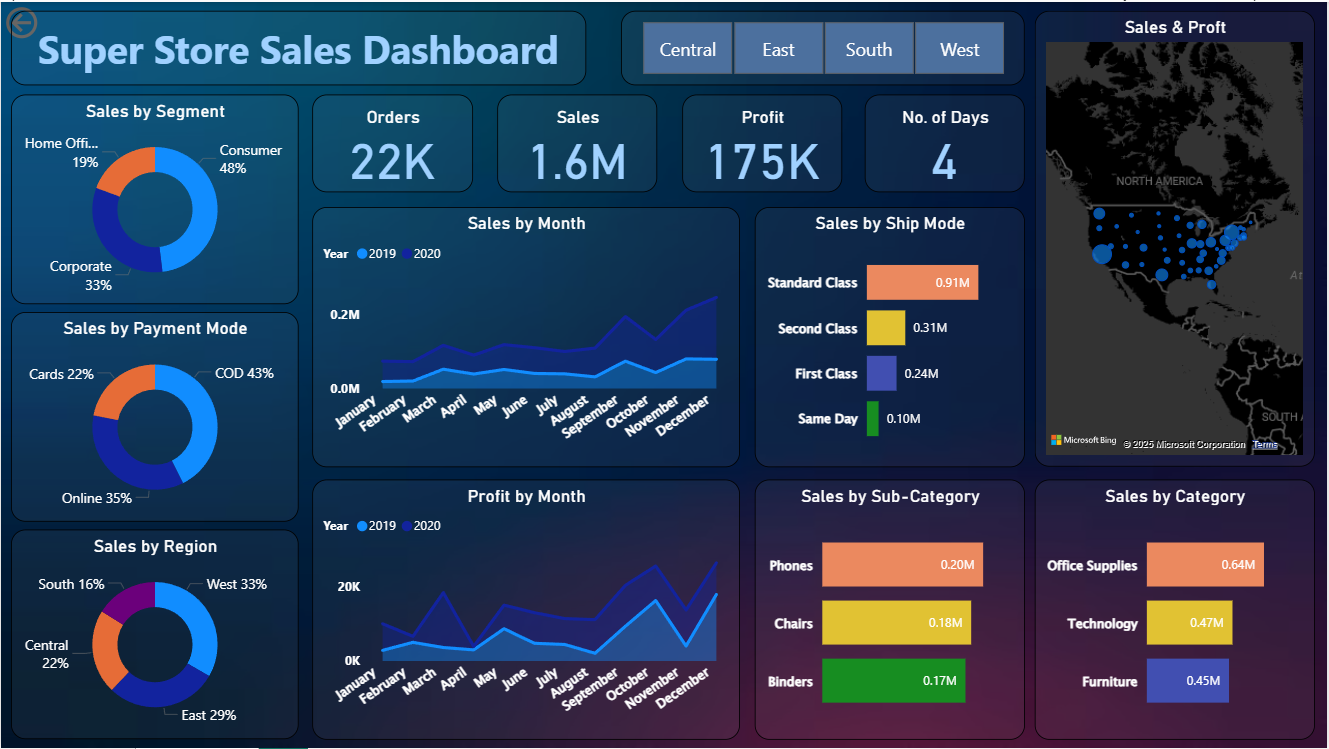

The dashboard page shown, as its layout file describes it:
{"tool":"powerbi","page":{"name":"dashboard","canvas":[1280,720],"ordinal":0},"visuals":[{"type":"clusteredBarChart","title":"Sales by Category","fields":{"Category":["SuperStore_Sales_Dataset.Category"],"Y":["Sum(SuperStore_Sales_Dataset.Sales)"]},"box":[997.7,460.9,270,250.9],"z":0},{"type":"clusteredBarChart","title":"Sales by Sub-Category","fields":{"Category":["SuperStore_Sales_Dataset.Sub-Category"],"Y":["Sum(SuperStore_Sales_Dataset.Sales)"]},"box":[727.5,460.9,260.6,250.9],"z":1000},{"type":"clusteredBarChart","title":"Sales by Ship Mode","fields":{"Category":["SuperStore_Sales_Dataset.Ship Mode"],"Y":["Sum(SuperStore_Sales_Dataset.Sales)"]},"box":[727.5,197.9,260.6,250.9],"z":2000},{"type":"stackedAreaChart","title":"Sales by Month","fields":{"Y":["Sum(SuperStore_Sales_Dataset.Sales)"],"Category":["SuperStore_Sales_Dataset.Order Date.Variation.Date Hierarchy.Month","SuperStore_Sales_Dataset.Order Date.Variation.Date Hierarchy.Day"],"Series":["SuperStore_Sales_Dataset.Order Date.Variation.Date Hierarchy.Year"]},"box":[300,197.9,412.6,250.9],"z":3000},{"type":"stackedAreaChart","title":"Profit by Month","fields":{"Category":["SuperStore_Sales_Dataset.Order Date.Variation.Date Hierarchy.Month","SuperStore_Sales_Dataset.Order Date.Variation.Date Hierarchy.Day"],"Series":["SuperStore_Sales_Dataset.Order Date.Variation.Date Hierarchy.Year"],"Y":["Sum(SuperStore_Sales_Dataset.Profit)"]},"box":[300,460.9,412.6,250.9],"z":4000},{"type":"map","title":"Sales & Profit","fields":{"Category":["SuperStore_Sales_Dataset.State"],"Size":["Sum(SuperStore_Sales_Dataset.Sales)"]},"box":[997.7,8.4,270.2,440.4],"z":5000},{"type":"actionButton","box":[0,0,100,40],"z":6000},{"type":"donutChart","title":"Sales by Segment","fields":{"Category":["SuperStore_Sales_Dataset.Segment"],"Y":["Sum(SuperStore_Sales_Dataset.Sales)"]},"box":[9.7,89.3,277.5,202.7],"z":7000},{"type":"donutChart","title":"Sales by Payment Mode","fields":{"Category":["SuperStore_Sales_Dataset.Payment Mode"],"Y":["Sum(SuperStore_Sales_Dataset.Sales)"]},"box":[9.7,299.2,277.5,202.7],"z":8000},{"type":"slicer","fields":{"Values":["SuperStore_Sales_Dataset.Region"]},"box":[598.4,8.4,389.7,72.4],"z":9000},{"type":"textbox","box":[9.7,8.4,555,72.4],"z":10000},{"type":"card","title":"Sales","fields":{"Values":["Sum(SuperStore_Sales_Dataset.Sales)"]},"box":[479,89,154.4,94.1],"z":11000},{"type":"card","title":"Orders","fields":{"Values":["Sum(SuperStore_Sales_Dataset.Quantity)"]},"box":[300,89.3,155,94.1],"z":12000},{"type":"card","title":"Profit","fields":{"Values":["Sum(SuperStore_Sales_Dataset.Profit)"]},"box":[657,89.3,154.4,94.1],"z":13000},{"type":"card","title":"No. of Days","fields":{"Values":["Avg(SuperStore_Sales_Dataset.Average Delivery)"]},"box":[833.7,89.3,154.4,94.1],"z":14000},{"type":"donutChart","title":"Sales by Region","fields":{"Category":["SuperStore_Sales_Dataset.Region"],"Y":["Sum(SuperStore_Sales_Dataset.Sales)"]},"box":[9.7,509.1,277.5,202.7],"z":14001}]}

Visuals, with their boxes in screenshot pixels (x1, y1, x2, y2), scaled from the page's 1280x720 canvas onto the 1329x749 screenshot:
"Sales by Category" clusteredBarChart: {"x1": 1036, "y1": 479, "x2": 1316, "y2": 740}
"Sales by Sub-Category" clusteredBarChart: {"x1": 755, "y1": 479, "x2": 1026, "y2": 740}
"Sales by Ship Mode" clusteredBarChart: {"x1": 755, "y1": 206, "x2": 1026, "y2": 467}
"Sales by Month" stackedAreaChart: {"x1": 311, "y1": 206, "x2": 740, "y2": 467}
"Profit by Month" stackedAreaChart: {"x1": 311, "y1": 479, "x2": 740, "y2": 740}
"Sales & Profit" map: {"x1": 1036, "y1": 9, "x2": 1316, "y2": 467}
actionButton: {"x1": 0, "y1": 0, "x2": 104, "y2": 42}
"Sales by Segment" donutChart: {"x1": 10, "y1": 93, "x2": 298, "y2": 304}
"Sales by Payment Mode" donutChart: {"x1": 10, "y1": 311, "x2": 298, "y2": 522}
slicer - SuperStore_Sales_Dataset.Region: {"x1": 621, "y1": 9, "x2": 1026, "y2": 84}
textbox: {"x1": 10, "y1": 9, "x2": 586, "y2": 84}
"Sales" card: {"x1": 497, "y1": 93, "x2": 658, "y2": 190}
"Orders" card: {"x1": 311, "y1": 93, "x2": 472, "y2": 191}
"Profit" card: {"x1": 682, "y1": 93, "x2": 842, "y2": 191}
"No. of Days" card: {"x1": 866, "y1": 93, "x2": 1026, "y2": 191}
"Sales by Region" donutChart: {"x1": 10, "y1": 530, "x2": 298, "y2": 740}
